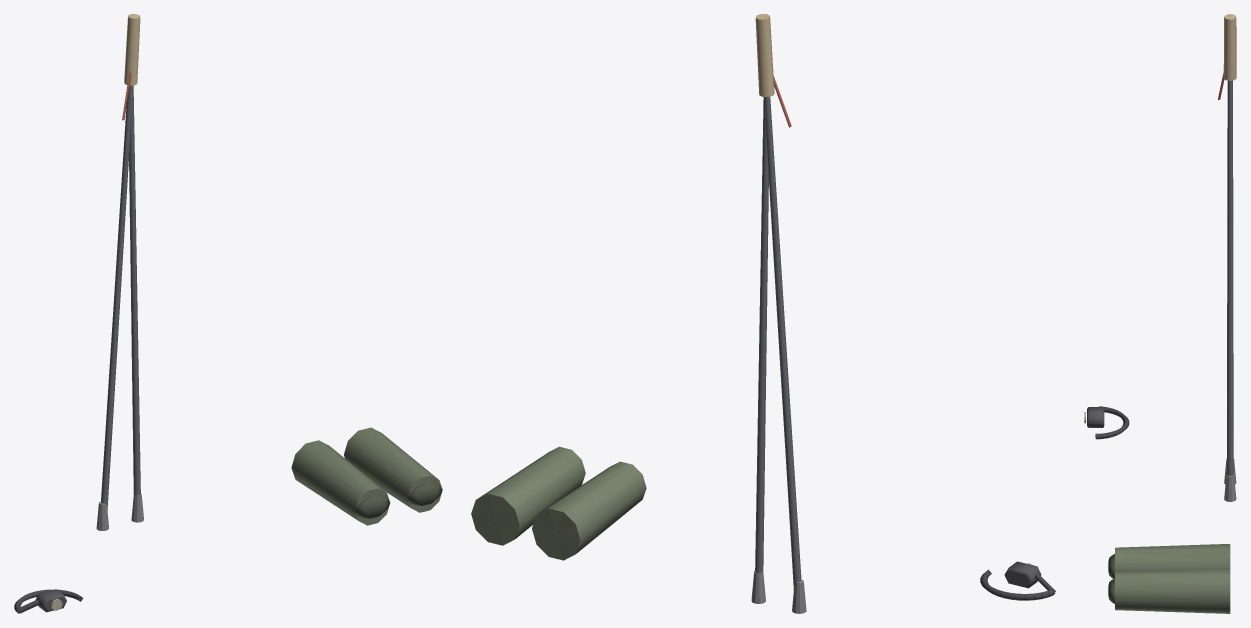
The model's file is wren_hiking_gear_a.glb.
3 views of the same model, side by side, from view 1: azimuth 30°, elevation 25°; view 2: azimuth 150°, elevation 25°; view 3: azimuth 270°, elevation 25° (orthographic). The views are drawn at different scales.
Visible parts, largest first — view 1: body; view 2: body; view 3: body.
Boxes of the visible parts, bbox=[...] form: body: bbox=[14, 14, 442, 613]; body: bbox=[471, 14, 1055, 613]; body: bbox=[1084, 14, 1236, 613].
Size of the model in its own units: 1.25 by 1.4 by 0.397.
